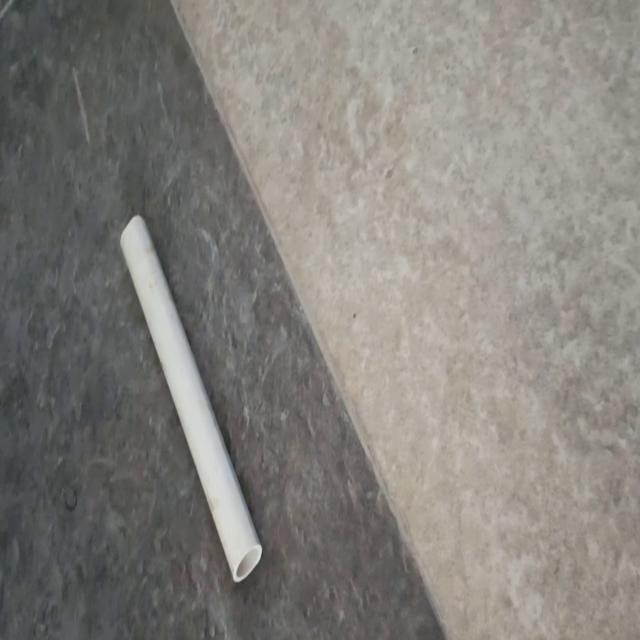Cube: (119, 213, 263, 583)
